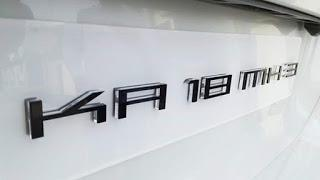licence-plate: (0, 28, 307, 163)
